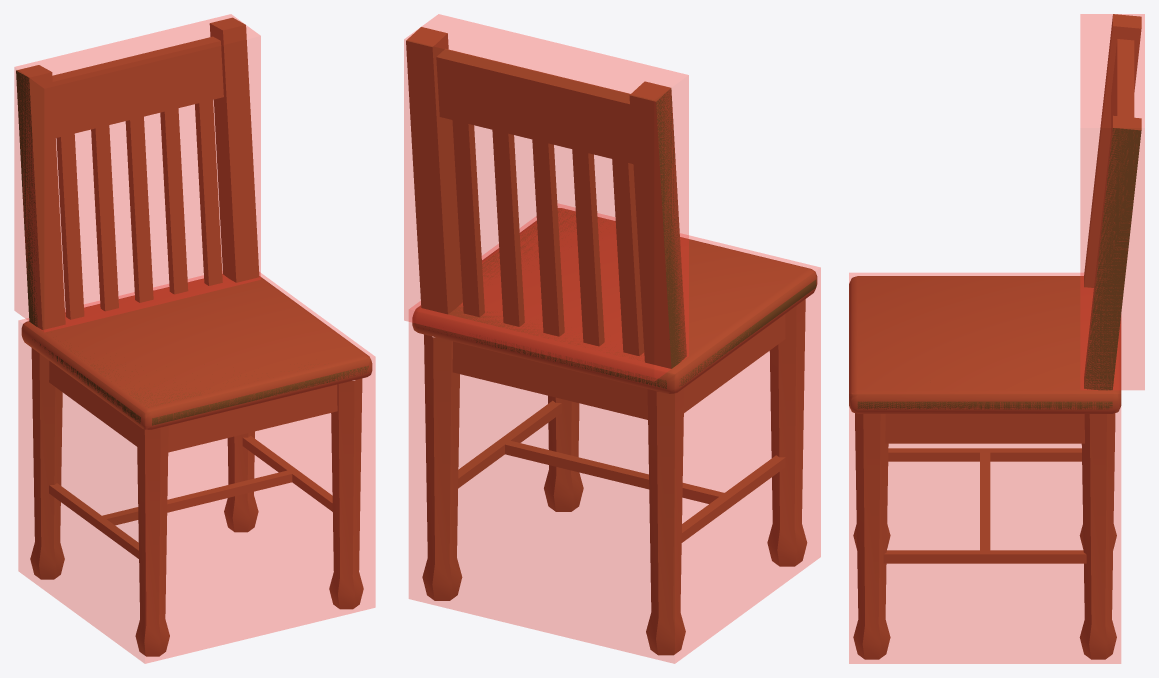
Rendered from ChairC01.glb.
3 renders of one model, left to right at view 1: azimuth 30°, elevation 25°; view 2: azimuth 150°, elevation 25°; view 3: azimuth 270°, elevation 25°, orthographic. The views are drawn at different scales.
Parts seen in each view (by area): view 1: Col_Seat, Body_Wood, Col_Back; view 2: Col_Seat, Body_Wood, Col_Back; view 3: Col_Seat, Body_Wood, Col_Back.
Boxes of the visible parts, box(x1,y1,x2,y2) form: Col_Seat: box(18, 271, 375, 663); Body_Wood: box(16, 17, 372, 656); Col_Back: box(14, 14, 260, 332); Col_Seat: box(409, 204, 820, 663); Body_Wood: box(406, 27, 817, 655); Col_Back: box(404, 14, 688, 381); Col_Seat: box(849, 273, 1120, 663); Body_Wood: box(849, 14, 1141, 659); Col_Back: box(1080, 14, 1144, 389).
Size of the model in its own units: 2 by 4.1 by 2.06.
